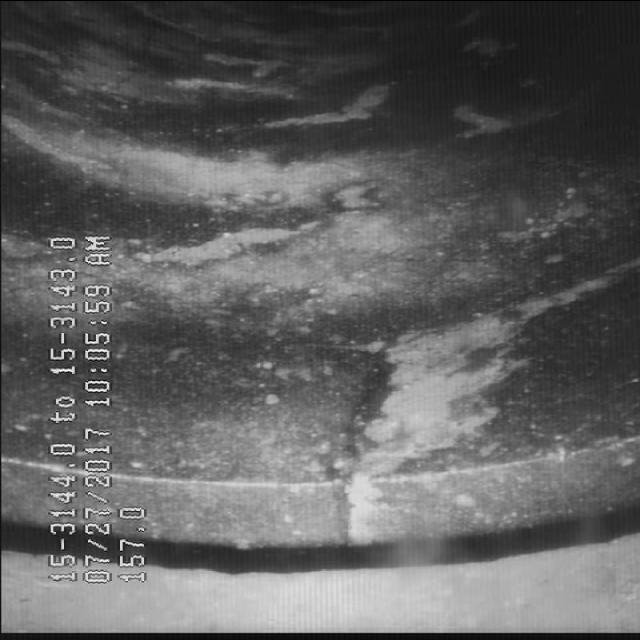Crack: (305, 167, 491, 545)
